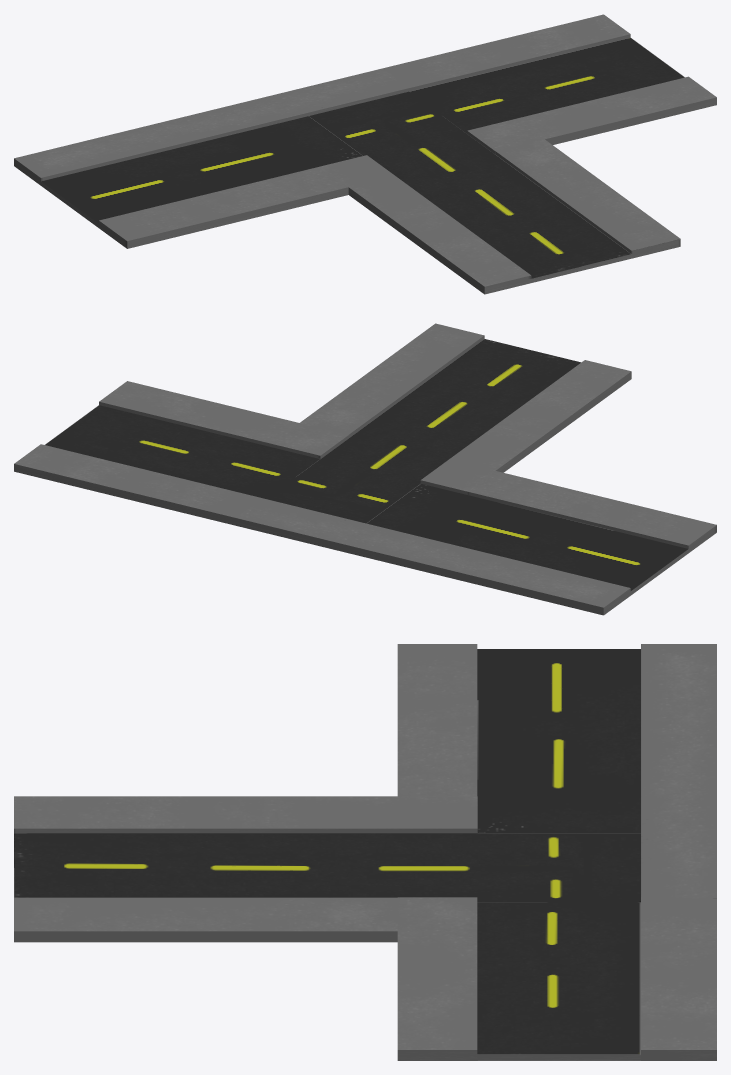
Rendered from roadTJunc.fbx.
3 views of the same model, one above another, from view 1: azimuth 30°, elevation 25°; view 2: azimuth 150°, elevation 25°; view 3: azimuth 270°, elevation 25° (orthographic). The views are drawn at different scales.
Visible parts, largest first — view 1: Cube.002; view 2: Cube.002; view 3: Cube.002.
Boxes of the visible parts, left/top/right/bottom form: Cube.002: left=14, top=14, right=716, bottom=294; Cube.002: left=14, top=323, right=716, bottom=615; Cube.002: left=14, top=644, right=716, bottom=1060.
Size of the model in its own units: 15858 by 200 by 11608.
Materials: 1 (1 with a texture image).
